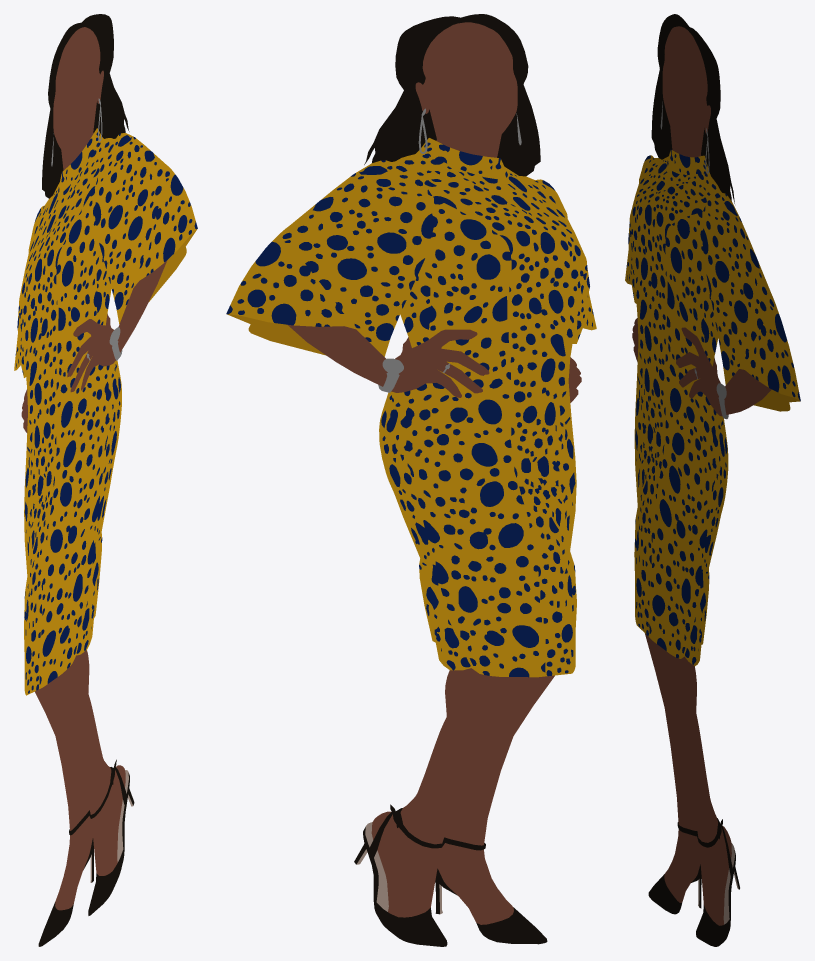
The model's file is 3D标尺.dae.
The picture shows the model from 3 angles, left to right: view 1: azimuth 30°, elevation 25°; view 2: azimuth 150°, elevation 25°; view 3: azimuth 270°, elevation 25°; orthographic projection. The views are drawn at different scales.
Visible parts, largest first — view 1: Sumele (×10); view 2: Sumele (×10); view 3: Sumele (×10).
Part boxes in pixels (x1=…): Sumele (×10): x1=14, y1=14, x2=197, y2=946; Sumele (×10): x1=227, y1=14, x2=596, y2=946; Sumele (×10): x1=625, y1=14, x2=800, y2=946.
Size of the model in its own units: 20.42 by 11.4 by 64.95.
